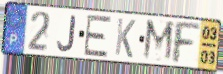2: (26, 10, 52, 52)
E: (82, 14, 113, 58)
F: (172, 19, 202, 66)
J: (56, 15, 76, 54)
K: (113, 17, 137, 60)
M: (141, 18, 176, 65)
